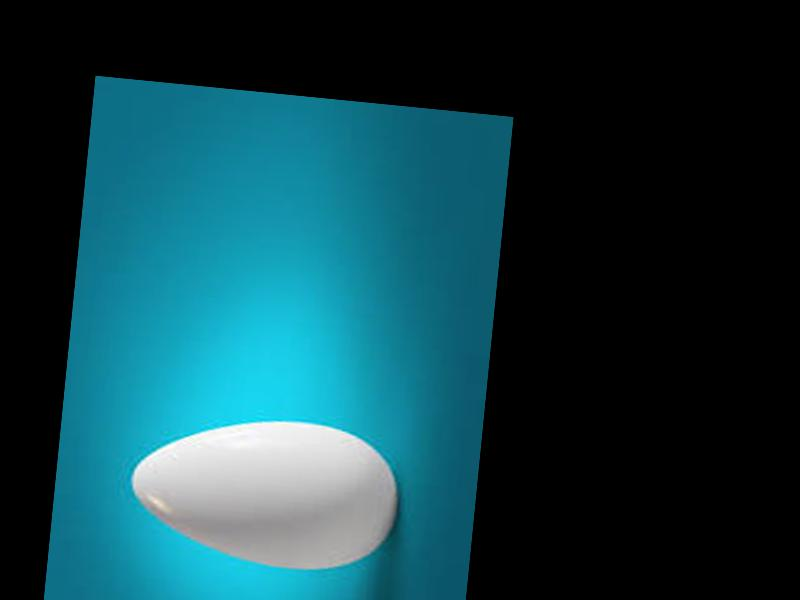Eggs: (126, 406, 404, 579)
